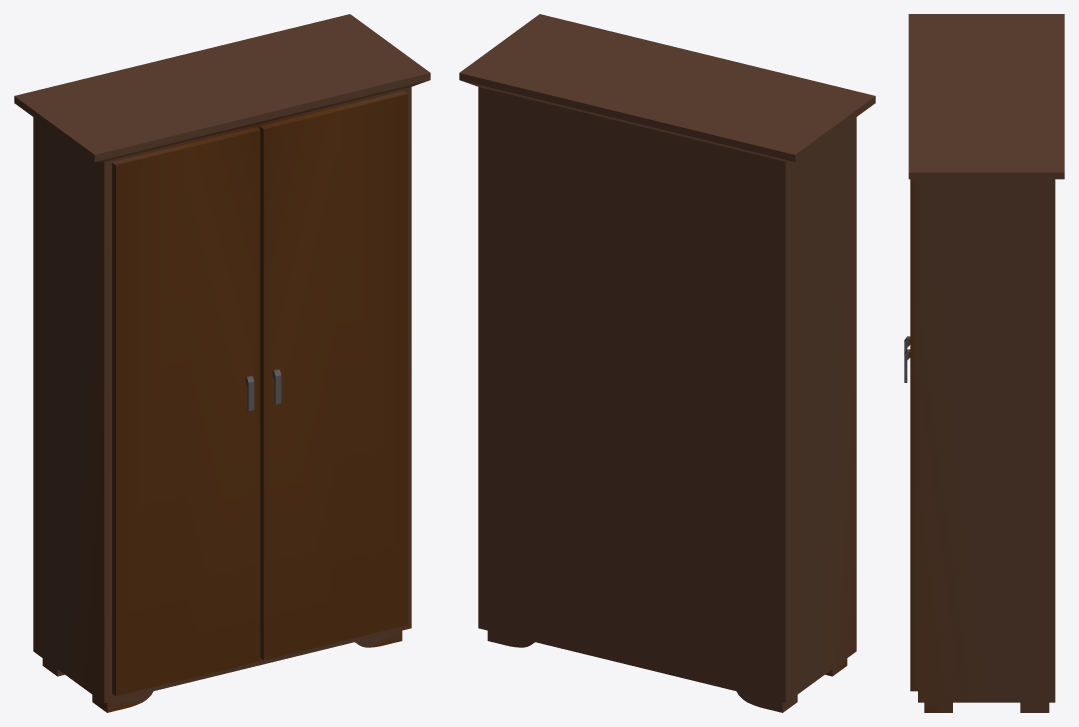
The model's file is Szafa.fbx.
3 renders of one model, left to right at view 1: azimuth 30°, elevation 25°; view 2: azimuth 150°, elevation 25°; view 3: azimuth 270°, elevation 25°, orthographic. The views are drawn at different scales.
Parts seen in each view (by area): view 1: Cube; view 2: Cube; view 3: Cube.
Boxes of the visible parts, left/top/right/bottom form: Cube: left=14, top=14, right=430, bottom=712; Cube: left=459, top=14, right=875, bottom=712; Cube: left=904, top=14, right=1064, bottom=712.
Size of the model in its own units: 546 by 884 by 233.
